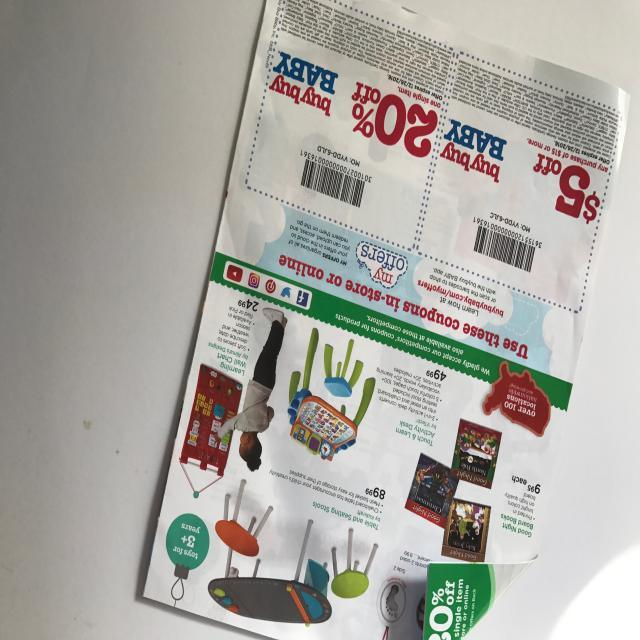paper: (136, 2, 632, 640)
